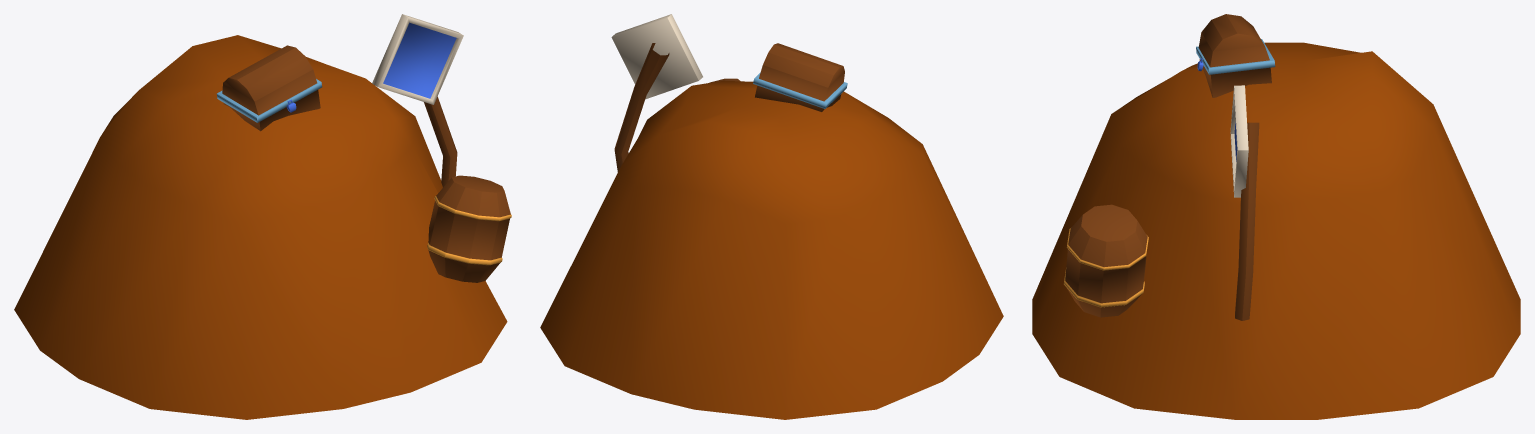
Rendered from Block3.fbx.
3 views of the same model, side by side, from view 1: azimuth 30°, elevation 25°; view 2: azimuth 150°, elevation 25°; view 3: azimuth 270°, elevation 25° (orthographic). The views are drawn at different scales.
Visible parts, largest first — view 1: Cube.015; view 2: Cube.015; view 3: Cube.015.
Boxes of the visible parts, bbox=[...] form: Cube.015: bbox=[14, 14, 511, 419]; Cube.015: bbox=[540, 14, 1003, 419]; Cube.015: bbox=[1032, 14, 1520, 419].
Size of the model in its own units: 297 by 199 by 297.
